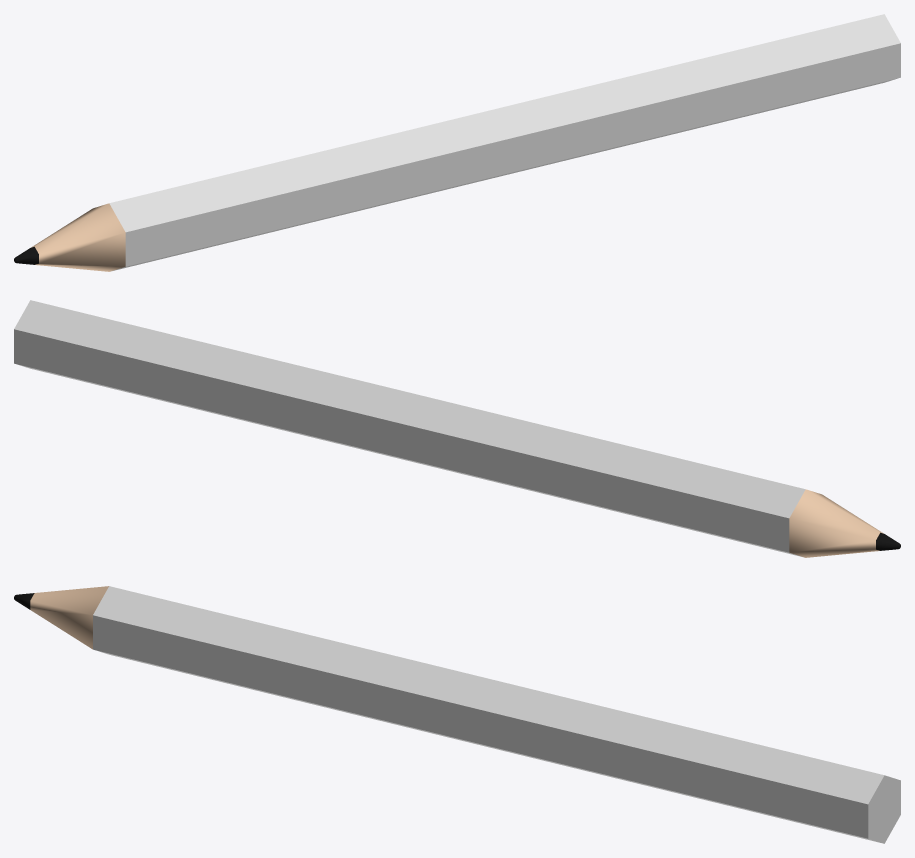
File: Pencil_whole.fbx
The picture shows the model from 3 angles, top to bottom: view 1: azimuth 30°, elevation 25°; view 2: azimuth 150°, elevation 25°; view 3: azimuth 330°, elevation 25°; orthographic projection.
Parts seen in each view (by area): view 1: Pencil_whole; view 2: Pencil_whole; view 3: Pencil_whole.
Part boxes in pixels (x1,y1,x2,y2): Pencil_whole: (14, 14, 900, 271); Pencil_whole: (14, 300, 900, 557); Pencil_whole: (14, 586, 900, 843).
Size of the model in its own units: 1300 by 98 by 84.87.
